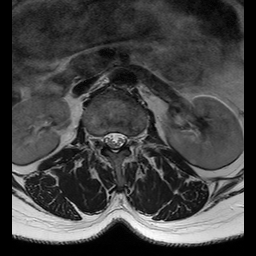CCS_normal: (111, 125, 120, 157)
LFS_stenosis: (129, 130, 136, 151)
LLS_normal: (119, 129, 128, 153)
RFS_stenosis: (96, 130, 103, 152)
RLS_normal: (104, 128, 111, 150)
